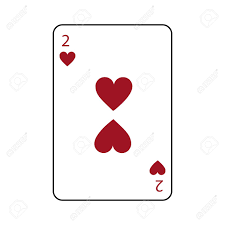two of hearts: (53, 25, 171, 198)
